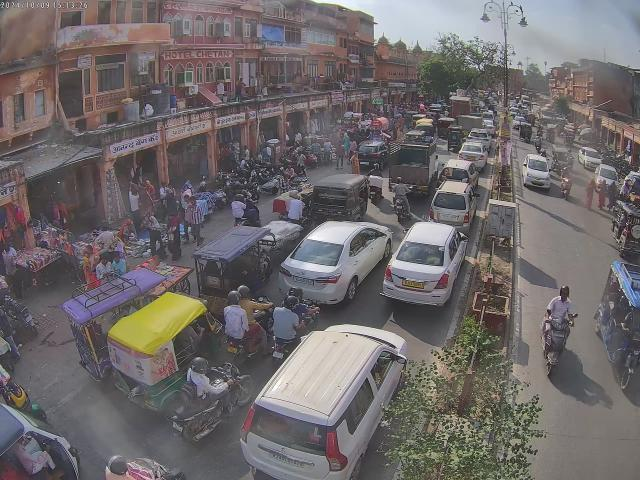auto: (66, 285, 212, 415), (0, 397, 84, 480), (192, 223, 276, 299), (596, 253, 640, 392), (306, 172, 368, 223), (610, 203, 640, 255), (446, 125, 466, 150)
car: (276, 219, 390, 311), (382, 219, 472, 310), (428, 182, 477, 226), (354, 140, 389, 174), (522, 155, 552, 191), (577, 147, 603, 169)
helmet: (189, 356, 210, 374), (224, 290, 242, 306), (282, 292, 298, 306), (236, 285, 250, 299), (557, 285, 570, 299), (396, 176, 404, 184), (562, 166, 570, 172)
license_plate: (237, 324, 410, 480), (270, 452, 302, 468), (292, 276, 314, 286), (402, 280, 425, 289), (228, 345, 238, 356), (272, 350, 284, 359), (441, 214, 457, 220)
lorry: (388, 140, 438, 200)
motorbike-rider: (167, 356, 250, 442), (218, 290, 264, 360), (266, 291, 320, 345), (390, 174, 412, 220)
person: (94, 253, 121, 285), (0, 242, 16, 276)
scooty-rider: (540, 285, 578, 372), (230, 196, 260, 226), (559, 174, 572, 198)
